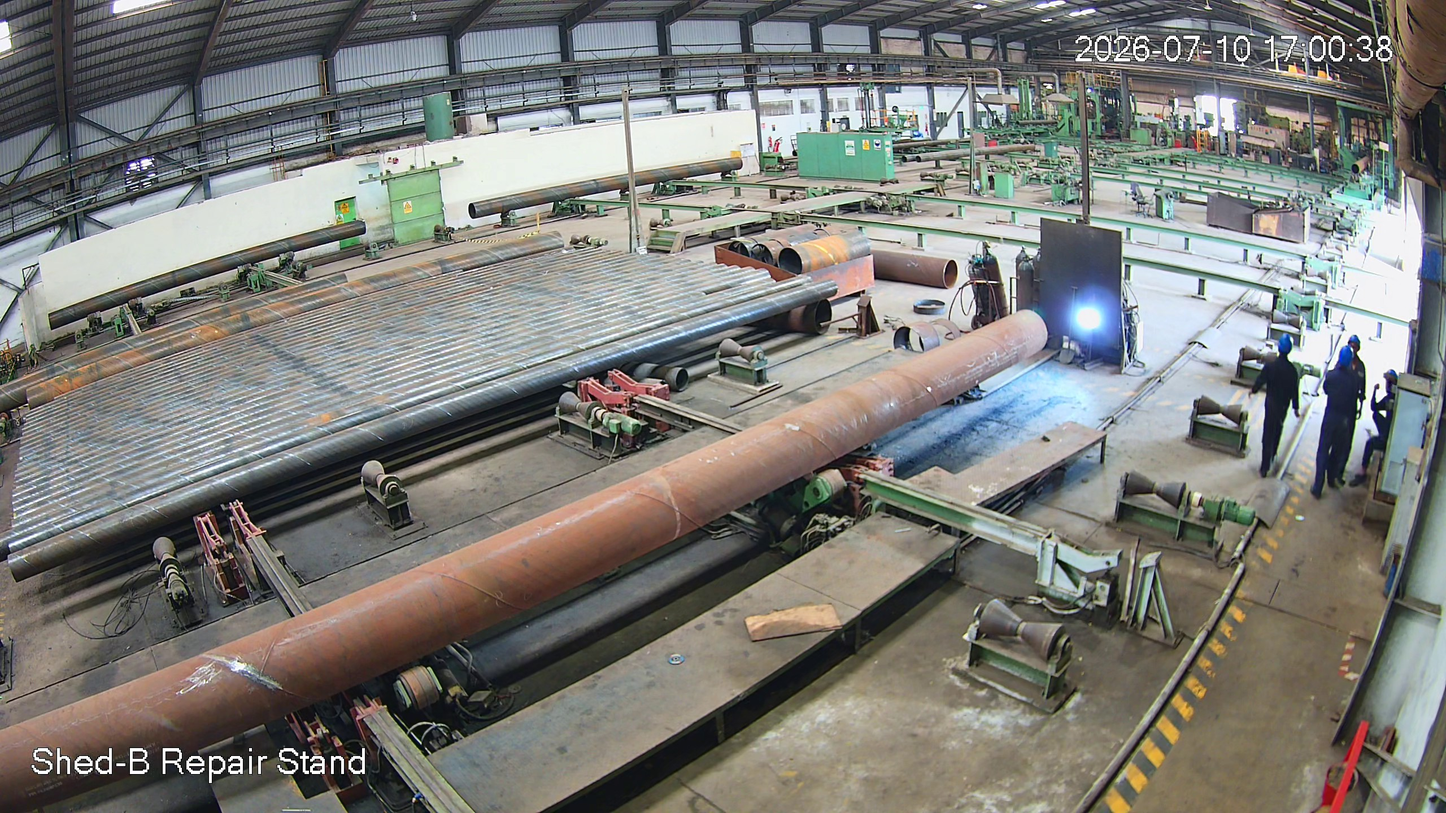Helmet: (1335, 335, 1360, 382), (1272, 330, 1298, 363)
Person: (1303, 340, 1363, 502), (1259, 336, 1301, 480)
